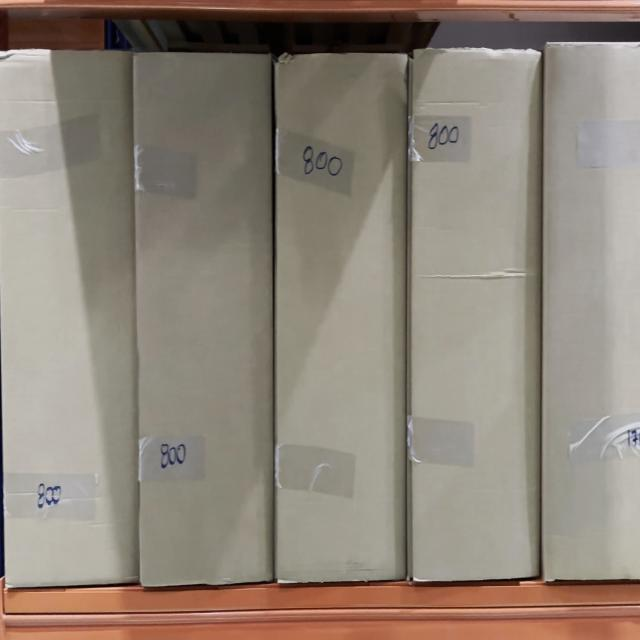box: (138, 56, 274, 585), (3, 57, 135, 586), (415, 51, 539, 586), (280, 62, 405, 579)
